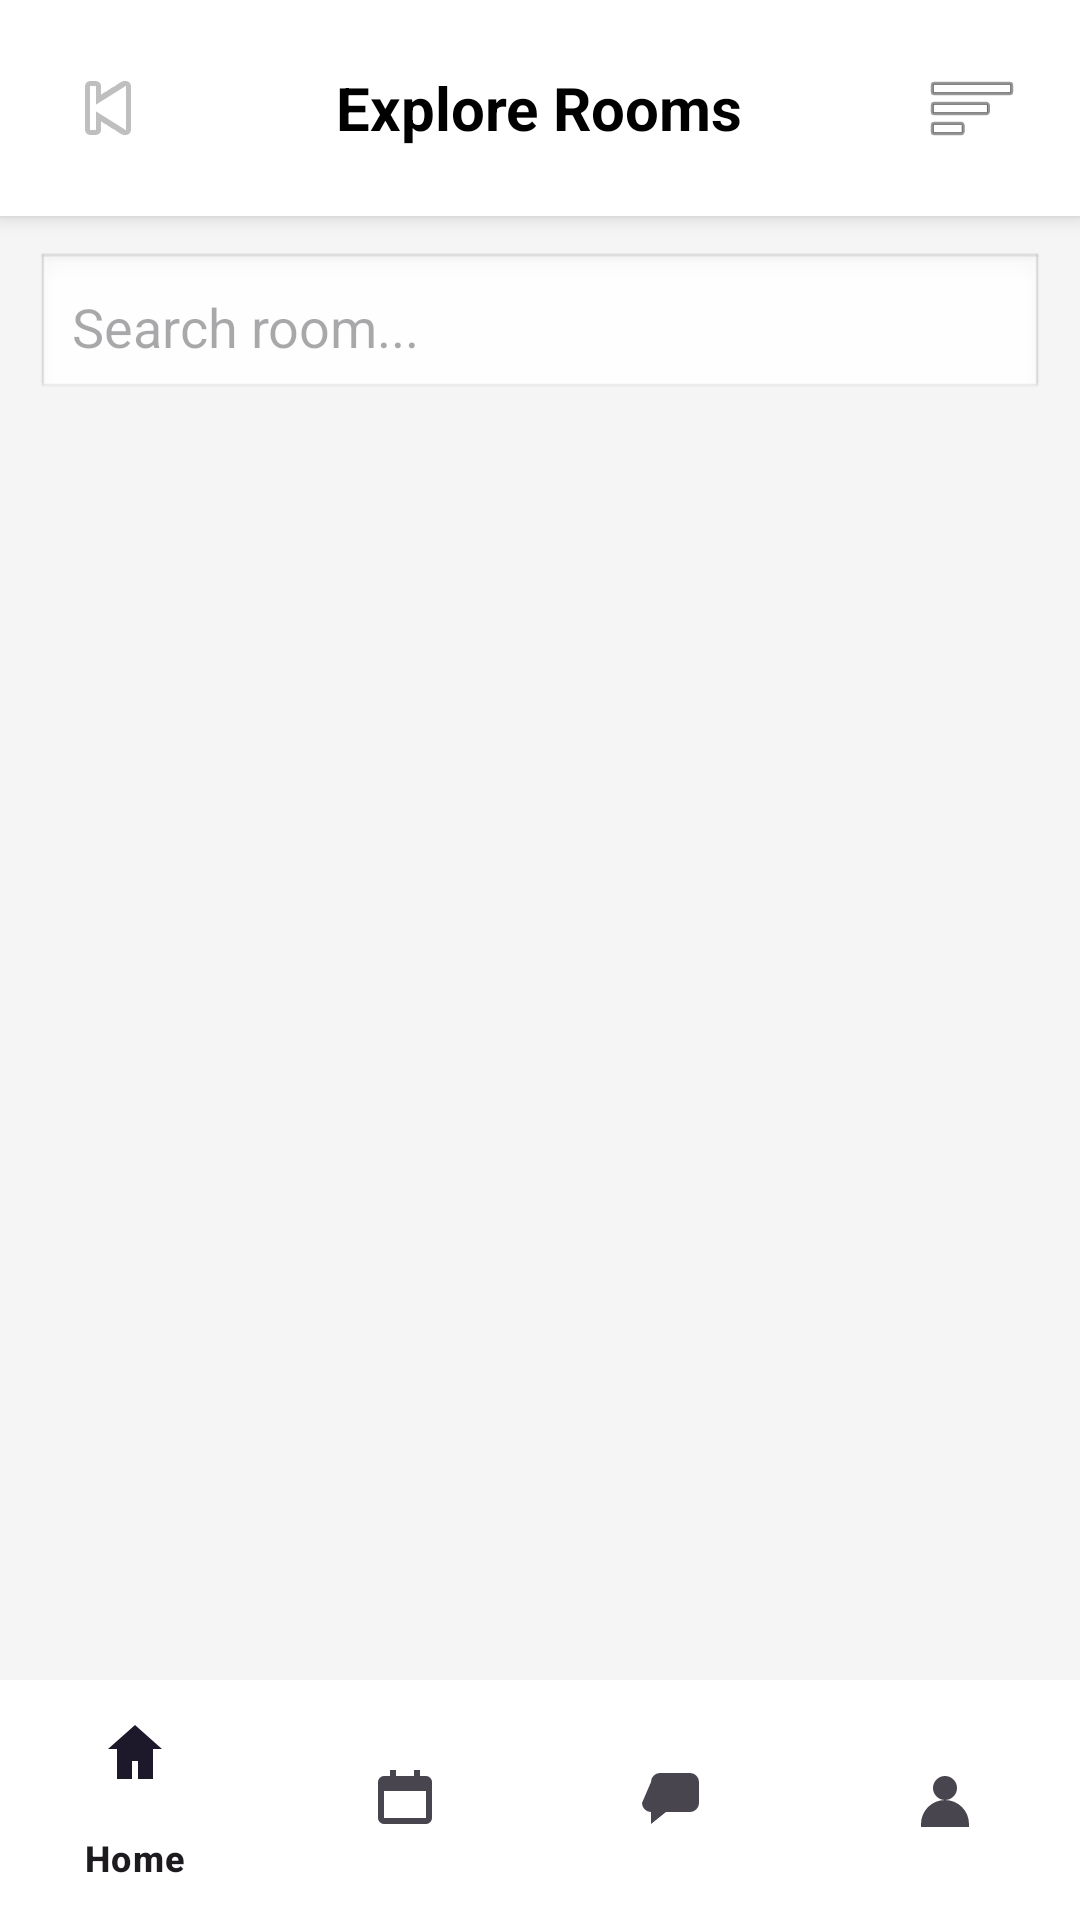

Point at icon controls on the screen. Image size 1080px x 1920px, points as [x,y].
Back: [108,108]
Filter: [972,108]
